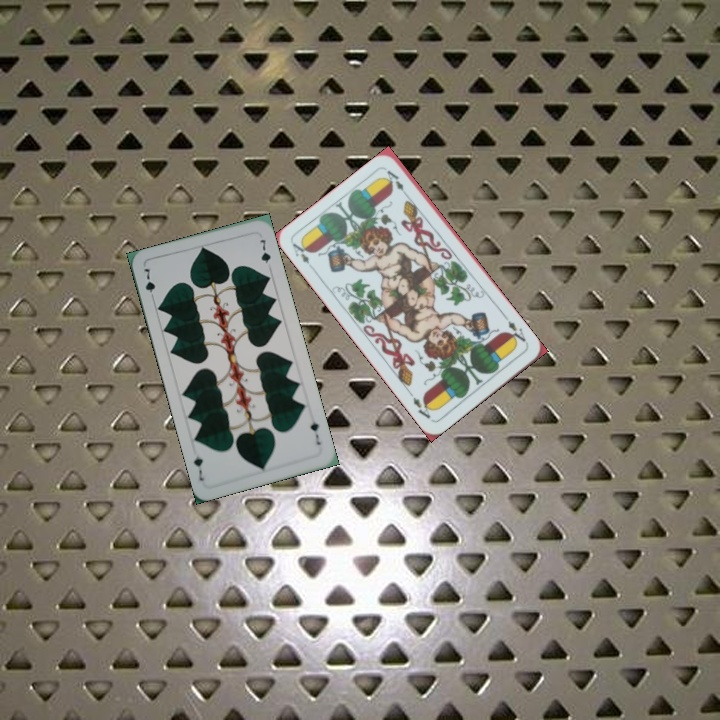EA: (503, 316, 530, 348), (288, 237, 313, 266)
G7: (138, 264, 158, 303), (306, 417, 323, 447)
